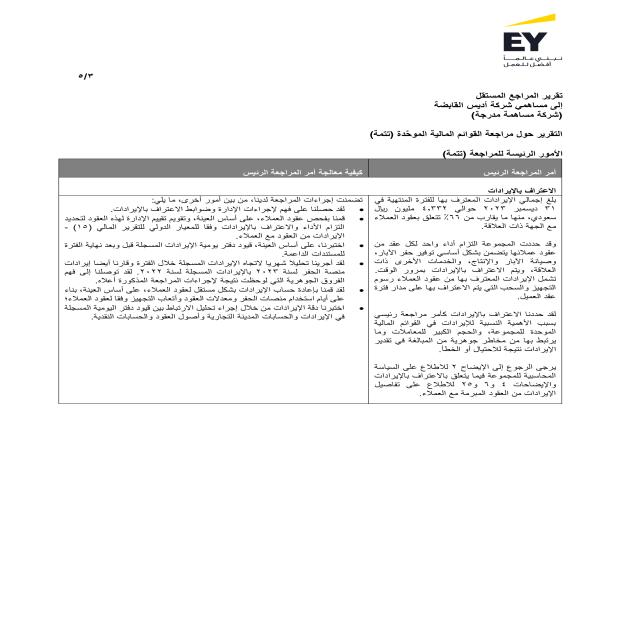auditor_report: (426, 147, 582, 159), (463, 86, 570, 102)
